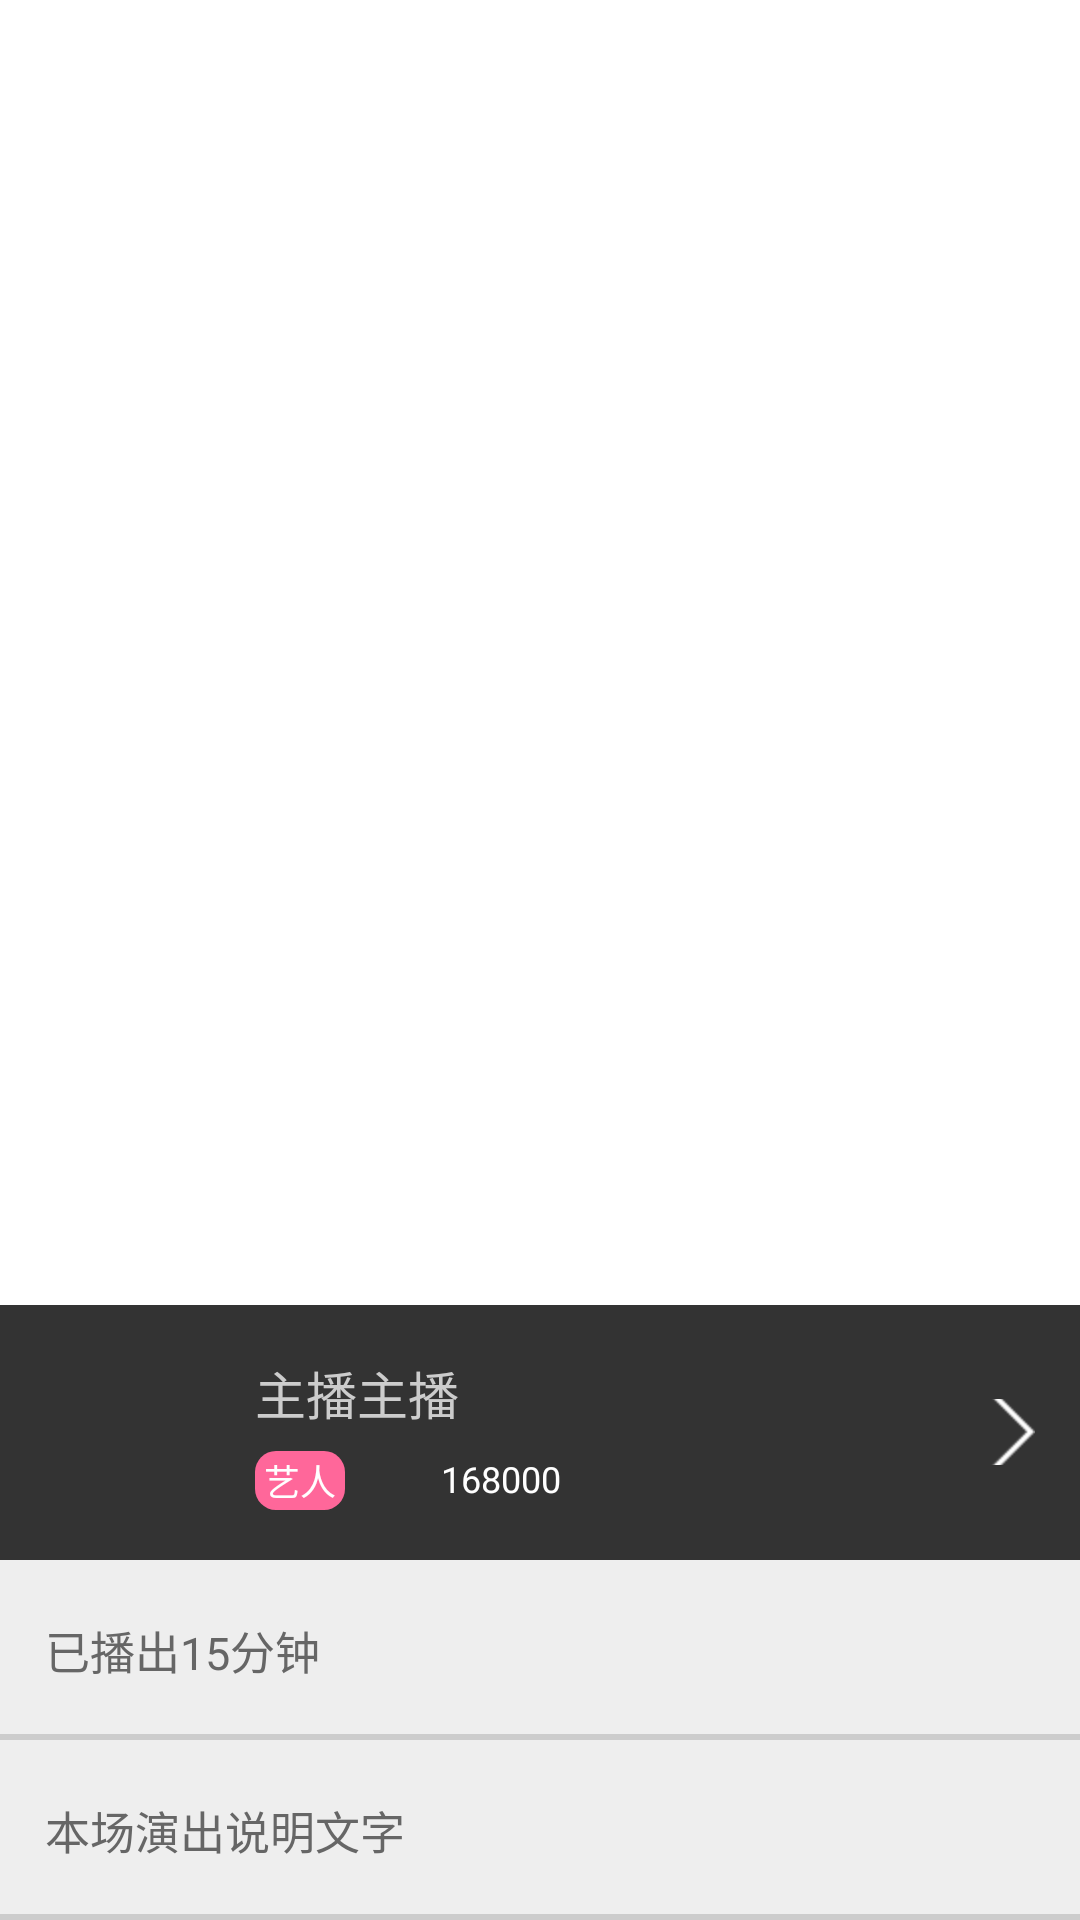

Screen size 1080px x 1920px. Icon name, then its center in pixels as (x=x, y=y):
right arrow: (x=1013, y=1432)
